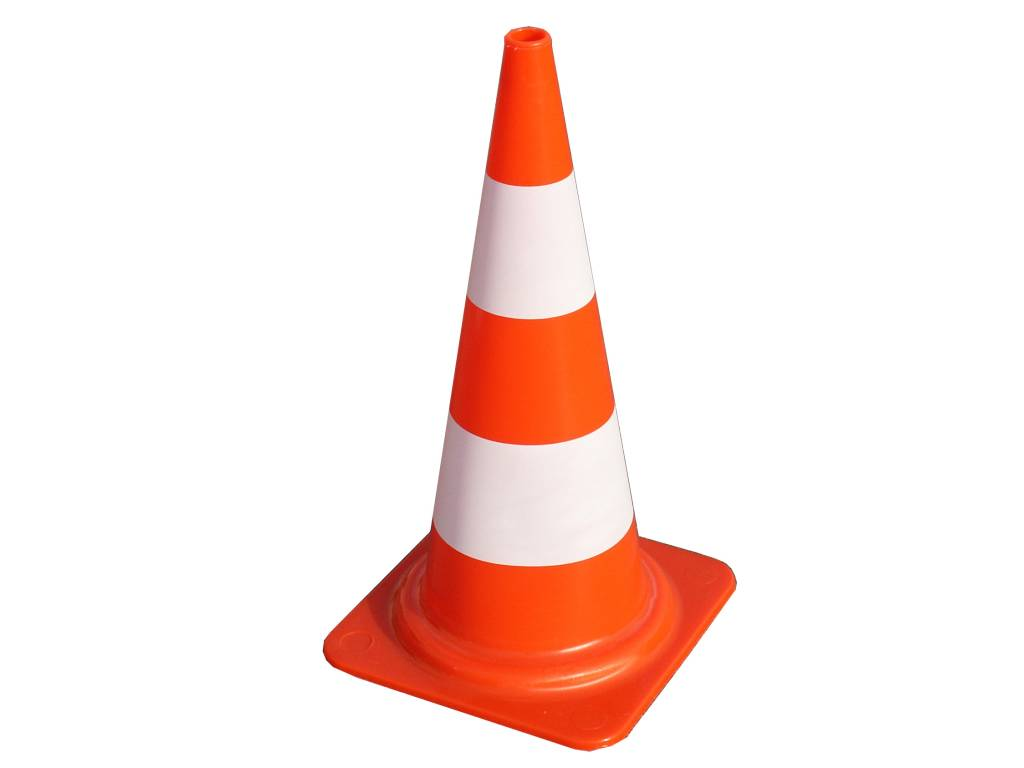cone: (319, 25, 737, 751)
